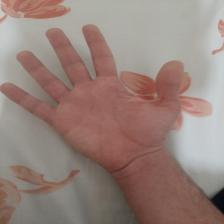five: (6, 24, 196, 166)
